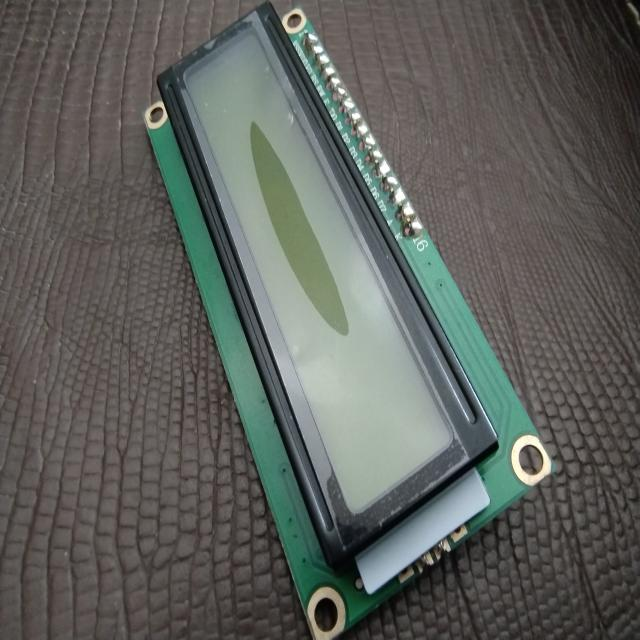lcd: (118, 0, 554, 640)
